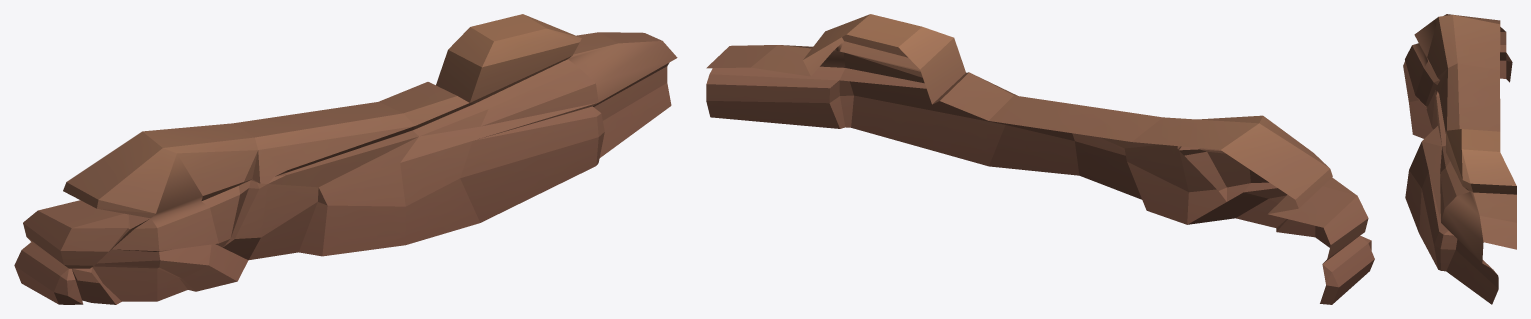
File: bloc_rocheux02b.FBX
3 renders of one model, left to right at view 1: azimuth 30°, elevation 25°; view 2: azimuth 150°, elevation 25°; view 3: azimuth 270°, elevation 25°, orthographic. The views are drawn at different scales.
Visible parts, largest first — view 1: bloc_rocheux02b; view 2: bloc_rocheux02b; view 3: bloc_rocheux02b.
Part boxes in pixels (left/top/right/bottom): bloc_rocheux02b: left=14, top=14, right=677, bottom=304; bloc_rocheux02b: left=706, top=14, right=1374, bottom=304; bloc_rocheux02b: left=1403, top=14, right=1516, bottom=304.
Bounding box in the file's own units: 199 × 45.15 × 38.16.
